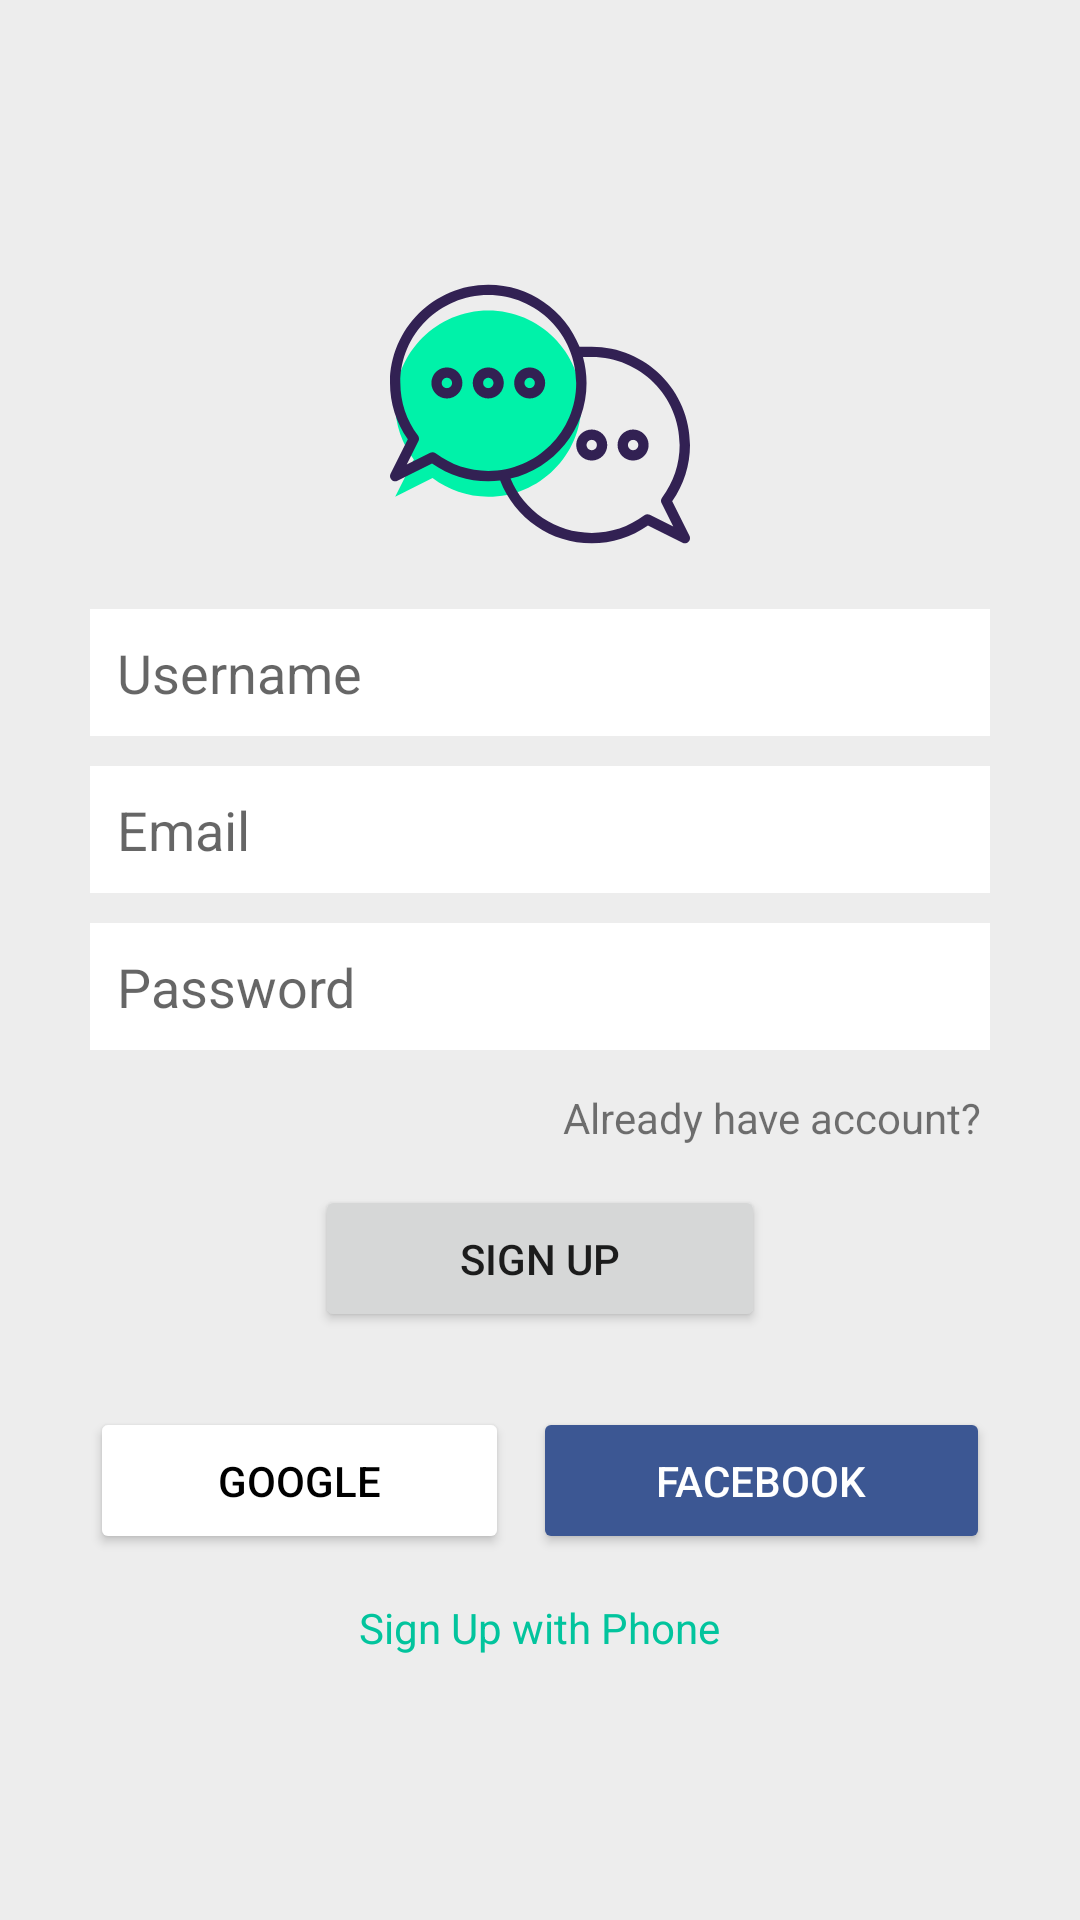

Named icons in this screenshot (1080px x 1920px) and their centers, point (x, y):
chat: point (540, 414)
